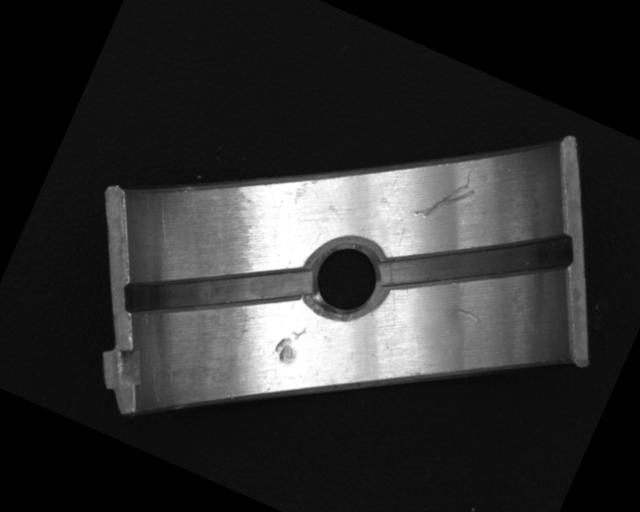bruise: (270, 319, 308, 369)
gap: (376, 173, 581, 350), (119, 205, 315, 373)
hole: (295, 228, 401, 333)
nick: (412, 168, 477, 236), (451, 304, 481, 321)
